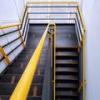stairs: (52, 41, 85, 98)
